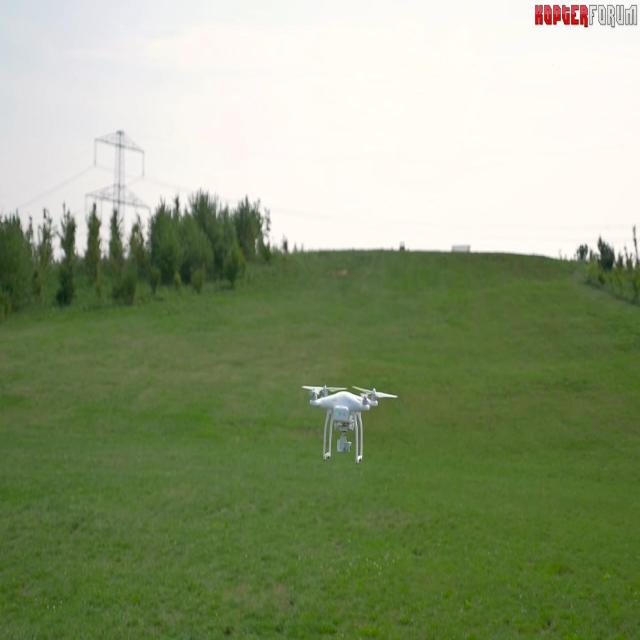drone: (302, 379, 398, 464)
